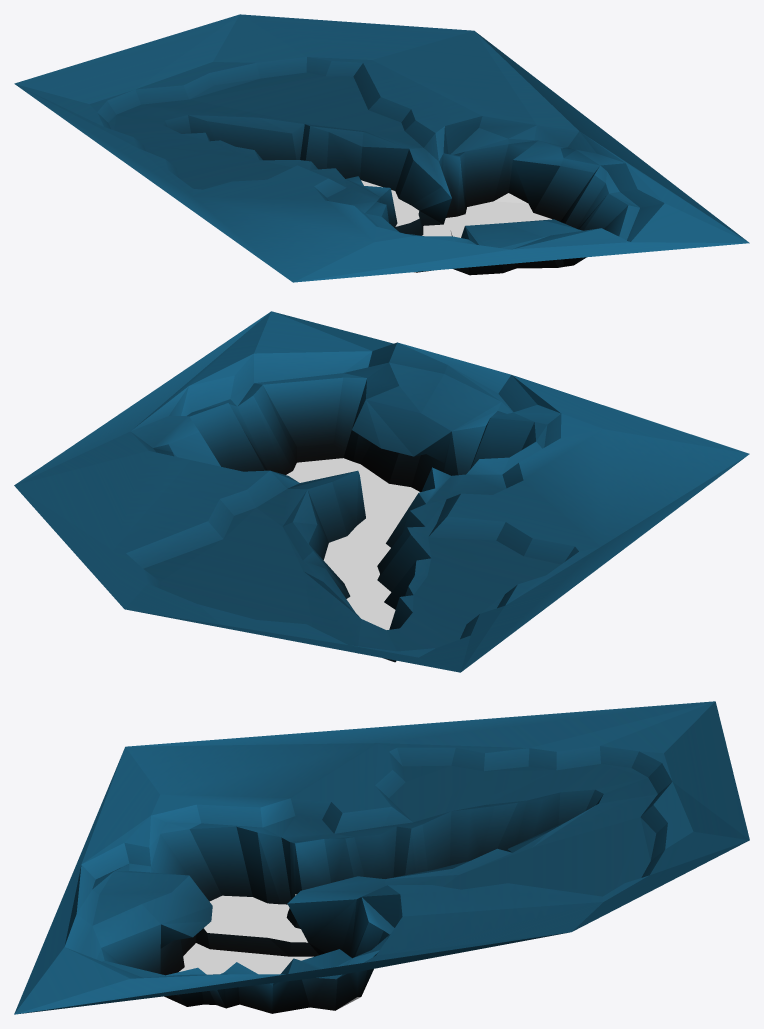
File: MOD_Level3.fbx
3 views of the same model, one above another, from view 1: azimuth 30°, elevation 25°; view 2: azimuth 150°, elevation 25°; view 3: azimuth 270°, elevation 25° (orthographic). The views are drawn at different scales.
Visible parts, largest first — view 1: MOD_Level3, MOD_Level3_Floor; view 2: MOD_Level3, MOD_Level3_Floor; view 3: MOD_Level3, MOD_Level3_Floor.
Part boxes in pixels (x1=…): MOD_Level3: x1=14, y1=14, x2=749, y2=282; MOD_Level3_Floor: x1=361, y1=180, x2=551, y2=237; MOD_Level3: x1=14, y1=311, x2=749, y2=672; MOD_Level3_Floor: x1=286, y1=458, x2=419, y2=629; MOD_Level3: x1=14, y1=701, x2=749, y2=1014; MOD_Level3_Floor: x1=179, y1=894, x2=360, y2=1009.
Size of the model in its own units: 81.15 by 15.64 by 99.31.
